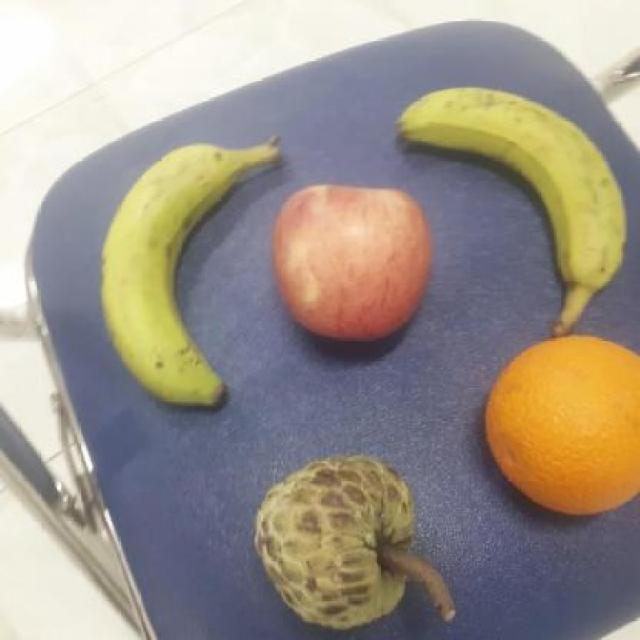apple: (271, 184, 434, 344)
banana: (395, 76, 633, 296), (99, 137, 279, 406)
oren: (477, 328, 638, 517)
sugar apple: (255, 453, 420, 633)
